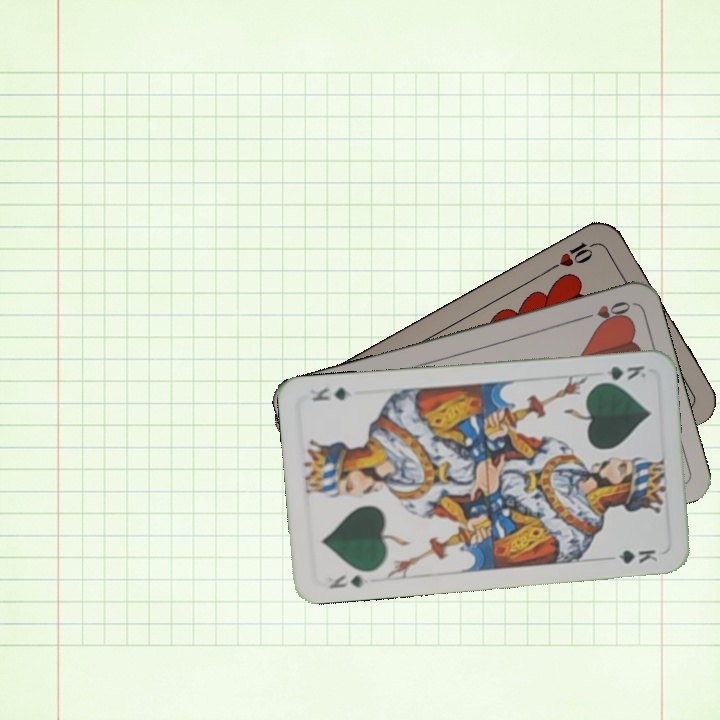GK: (592, 361, 649, 386), (325, 570, 366, 591)
H10: (547, 238, 601, 273)
HO: (576, 297, 633, 326)
